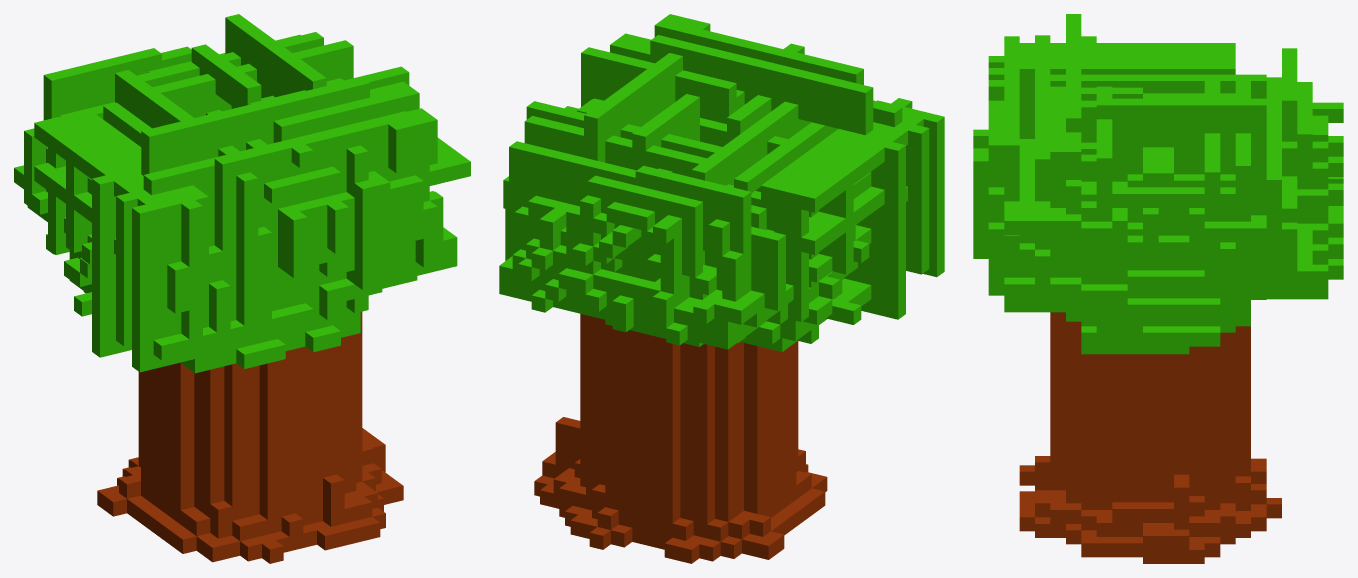
File: background-1.obj
3 views of the same model, side by side, from view 1: azimuth 30°, elevation 25°; view 2: azimuth 150°, elevation 25°; view 3: azimuth 270°, elevation 25° (orthographic). The views are drawn at different scales.
Visible parts, largest first — view 1: background-1; view 2: background-1; view 3: background-1.
Boxes of the visible parts, x1,y1,x2,y2 form: background-1: [14, 14, 470, 563]; background-1: [499, 14, 944, 563]; background-1: [973, 14, 1343, 563].
Size of the model in its own units: 24 by 30 by 24.
1 material, 1 textured.
